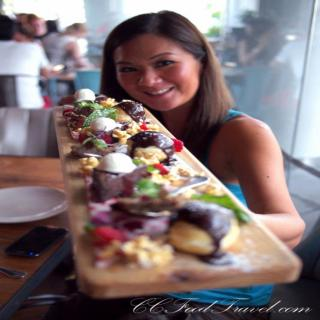Ice cream: (69, 64, 267, 300)
